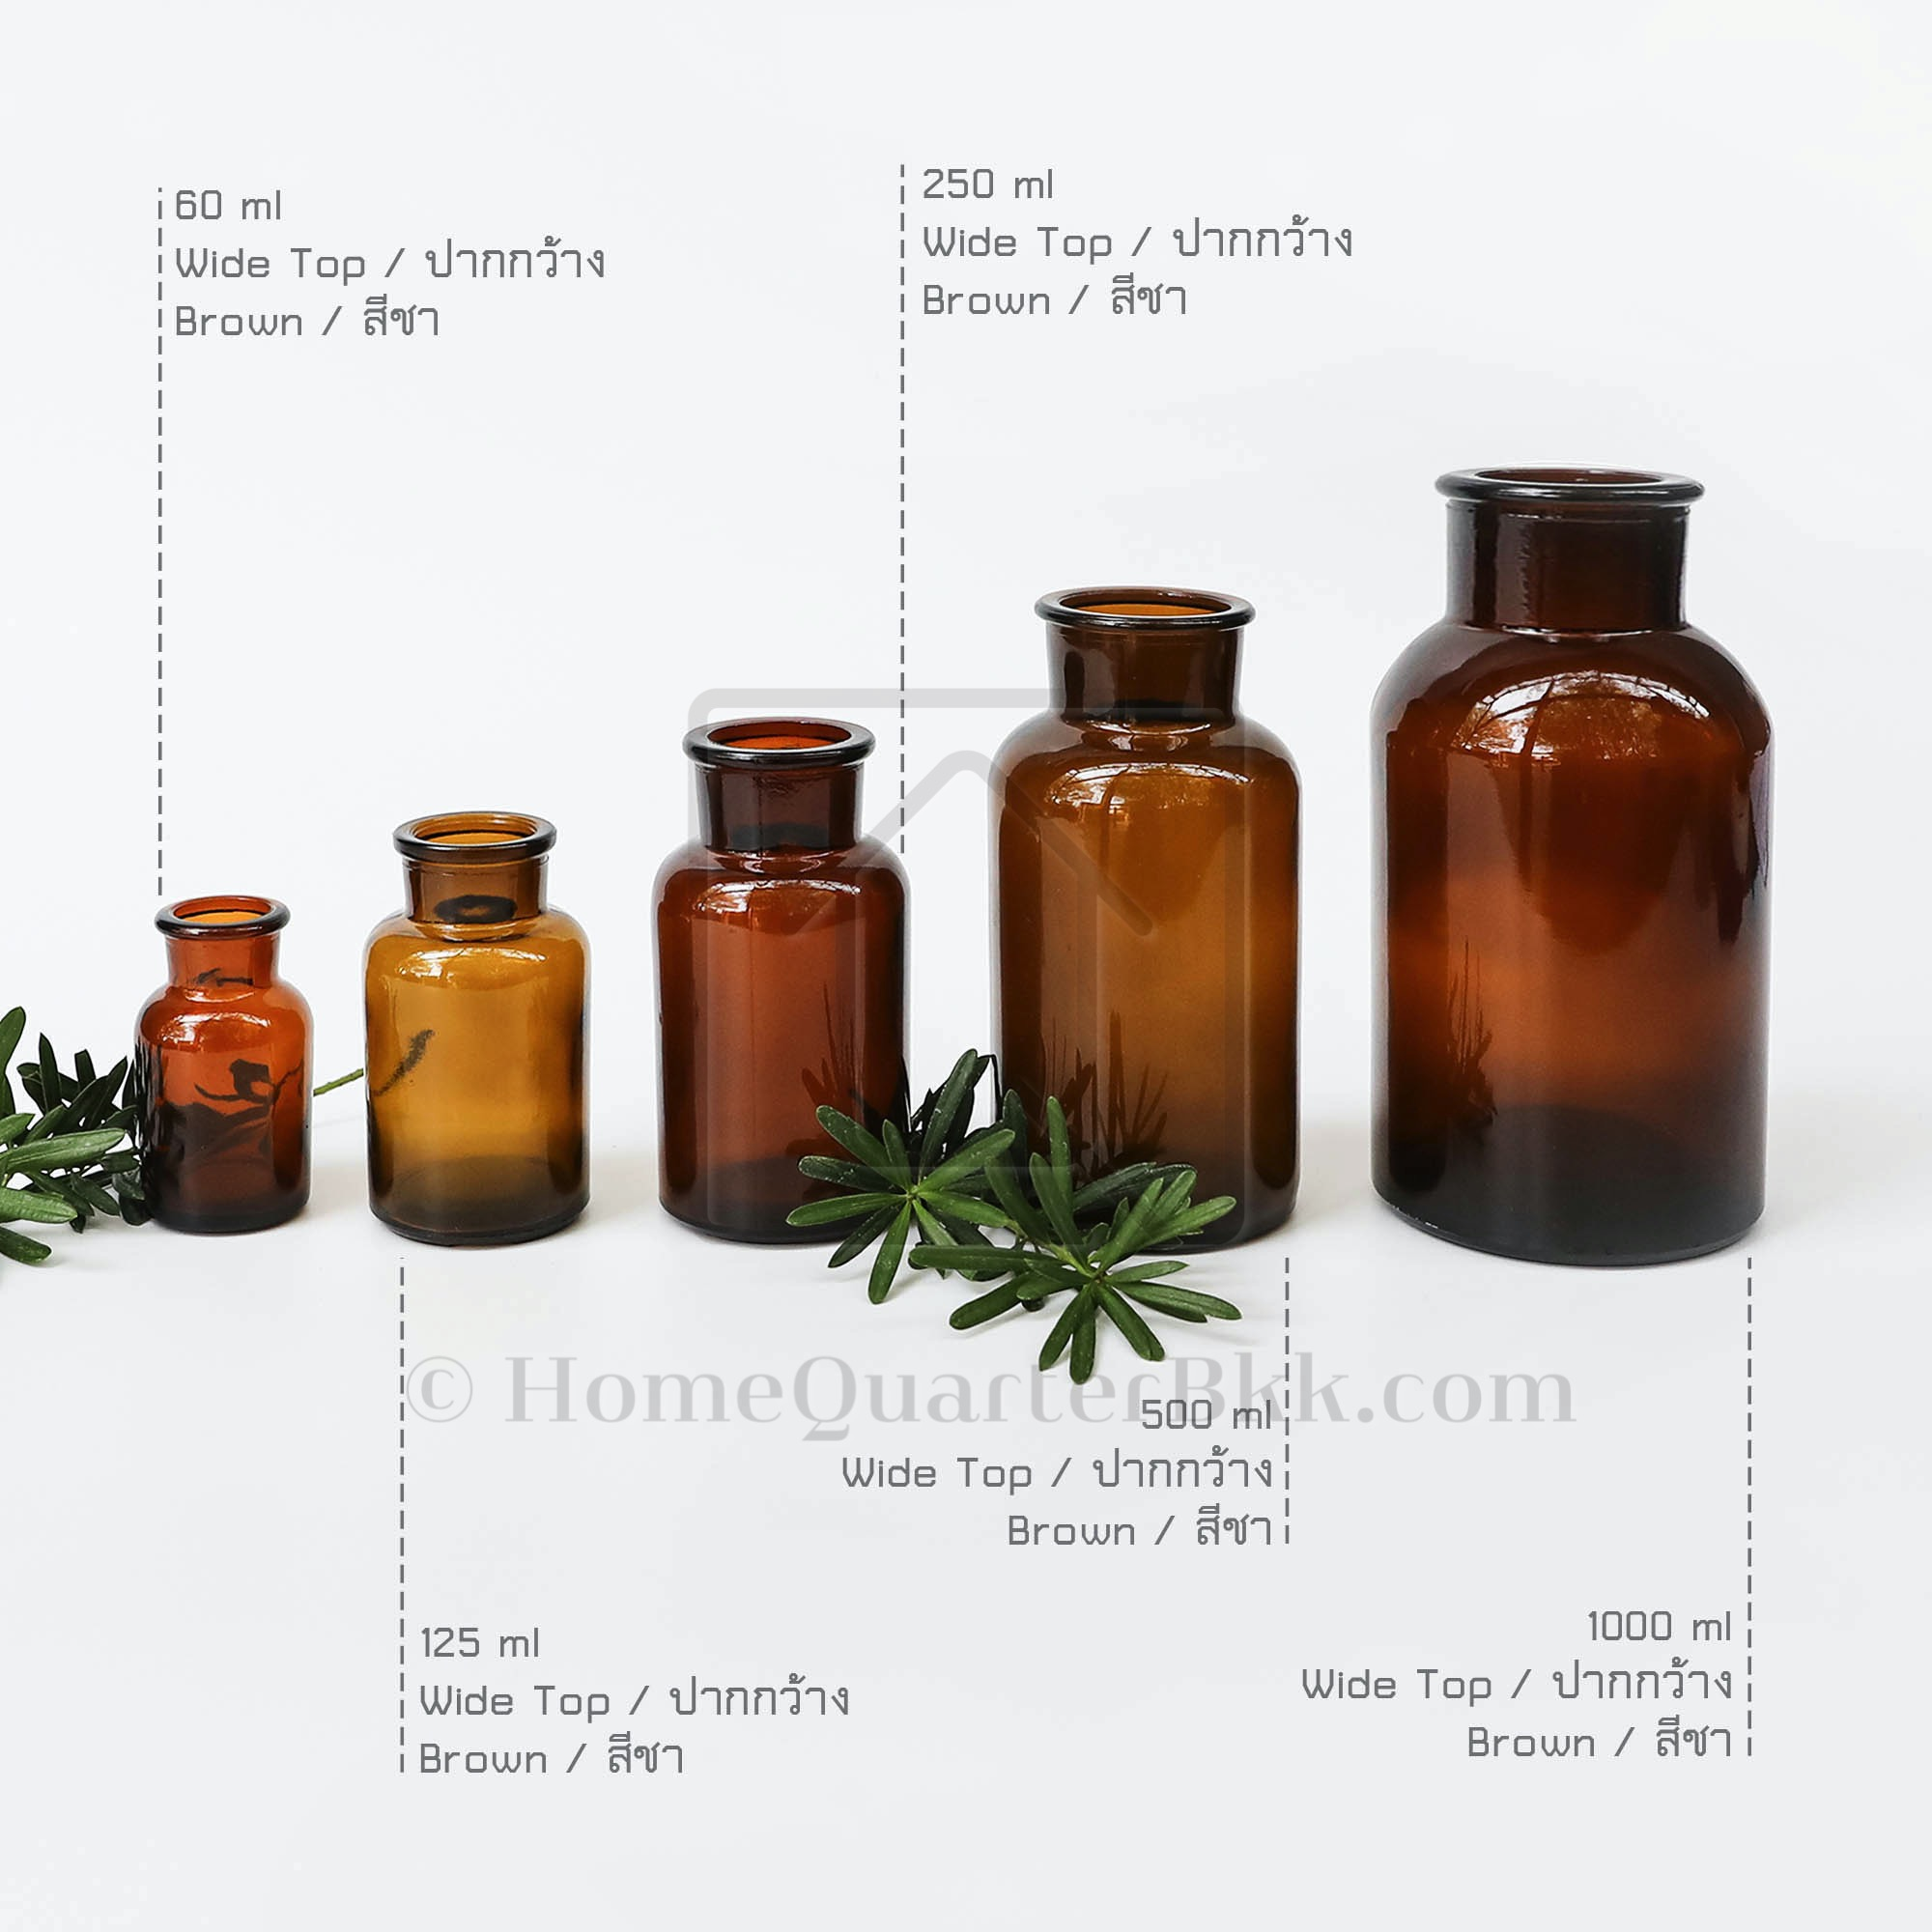glass_bottle: (1362, 448, 1803, 1288), (973, 571, 1316, 1251), (653, 708, 922, 1260), (357, 794, 600, 1260), (127, 890, 322, 1246)
